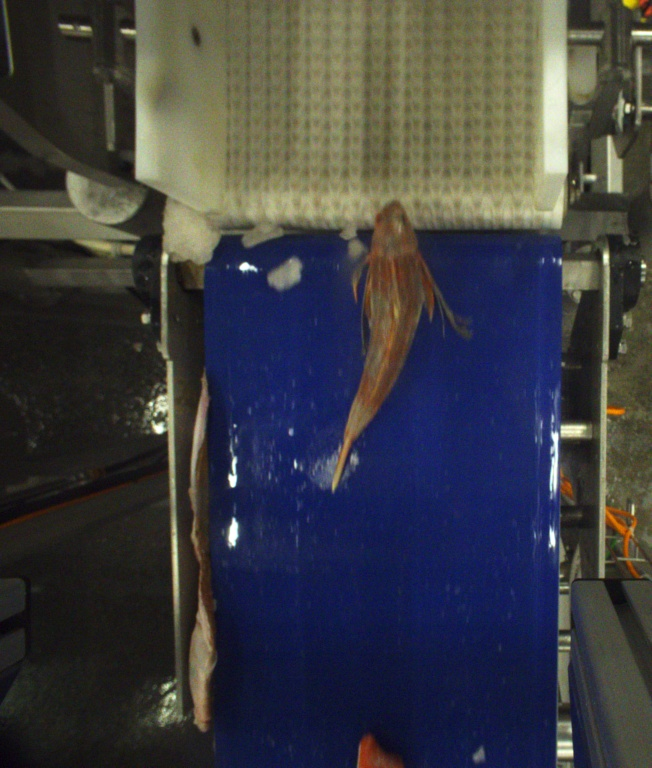GUU: (332, 203, 468, 495)
